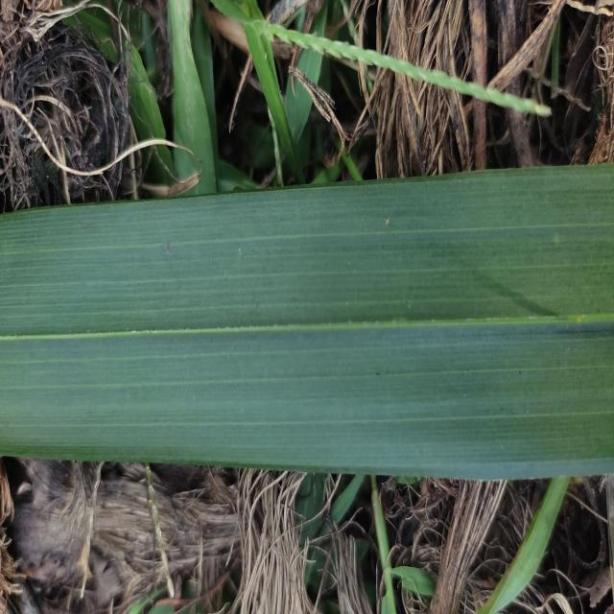Healthy: (0, 166, 614, 480)
